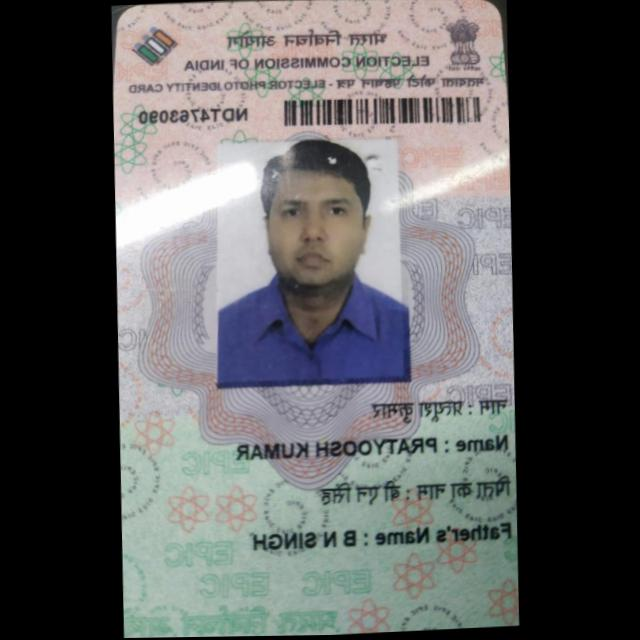voter_id: (104, 0, 528, 639)
